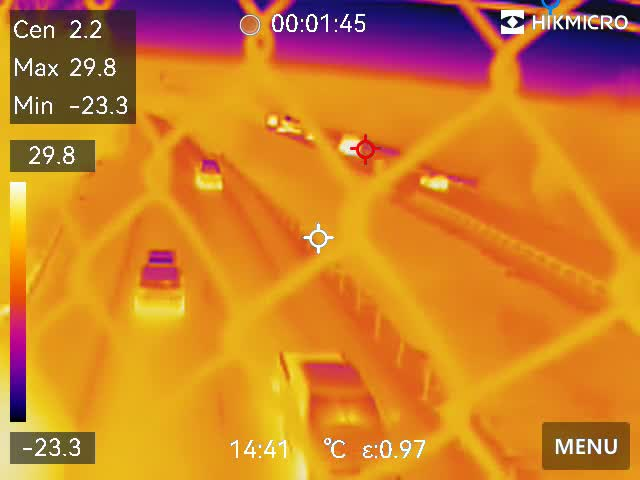lightTruck: (271, 344, 390, 480)
vehicle: (132, 244, 189, 320), (415, 167, 458, 195), (195, 159, 223, 195), (339, 139, 375, 161)
